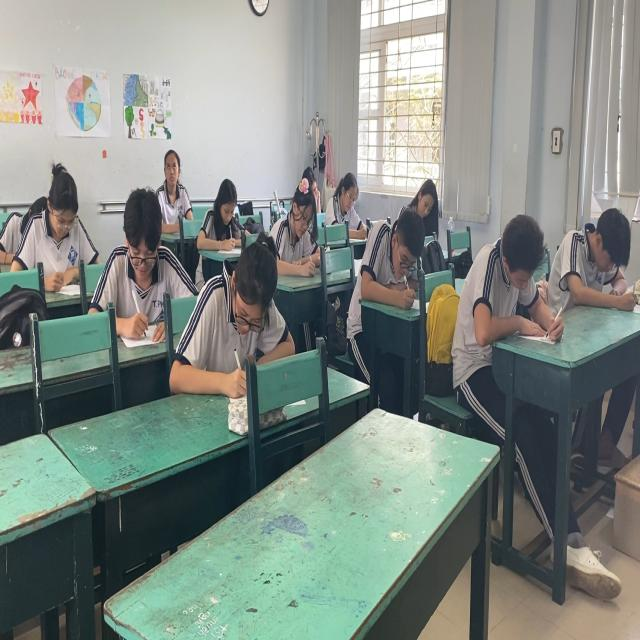not_cheating: (98, 185, 185, 315), (202, 229, 286, 357), (471, 205, 549, 340), (16, 163, 100, 280), (559, 205, 634, 312), (356, 205, 425, 308), (195, 180, 256, 260), (152, 125, 199, 218), (279, 177, 325, 270), (325, 170, 362, 236), (399, 174, 440, 225)
